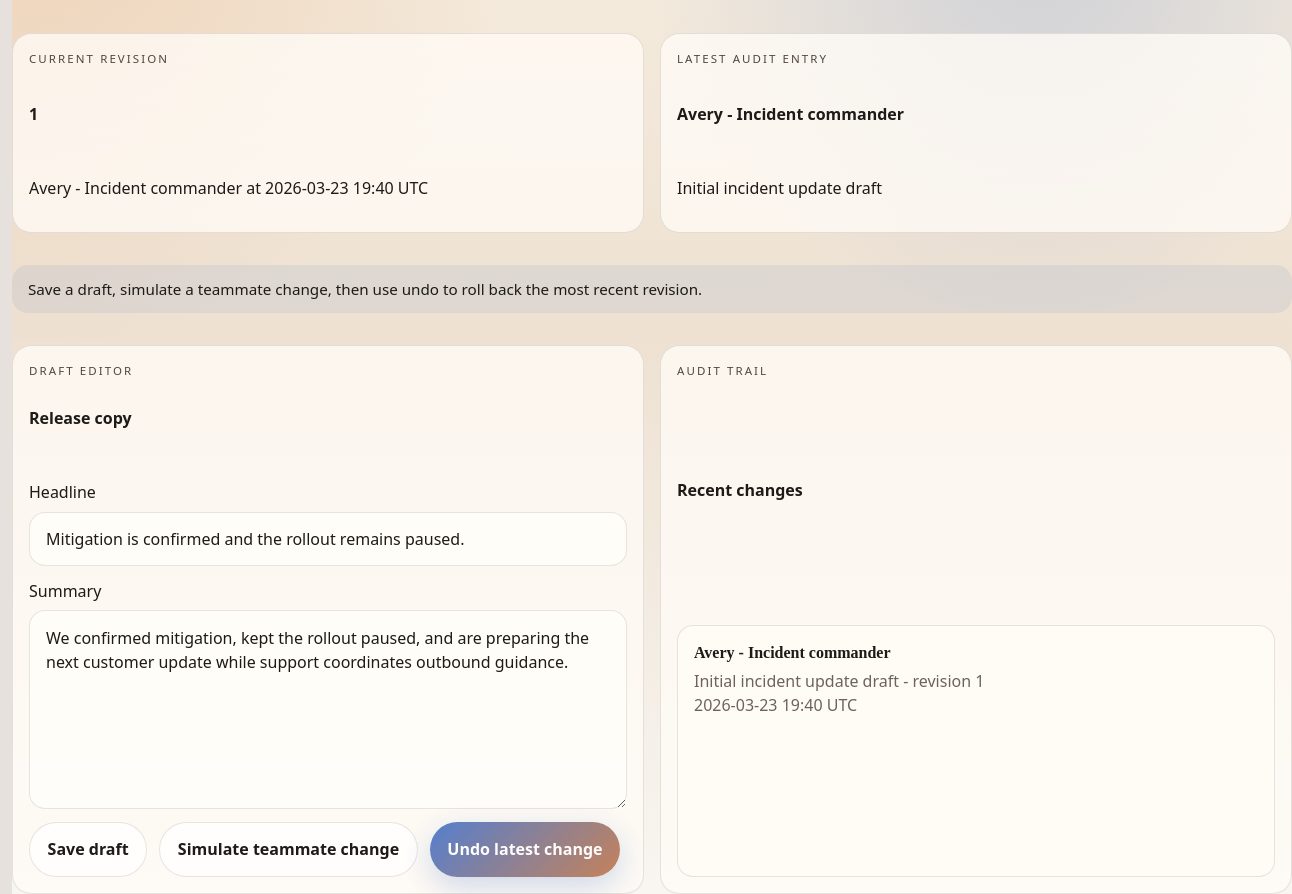
Test case: release audit history and undo › captures change attribution when a teammate updates the shared release copy
(page scrolled)
Click the button "Simulate teammate change" at point(288, 849), box [159,822,418,877]
Wait 240 ms
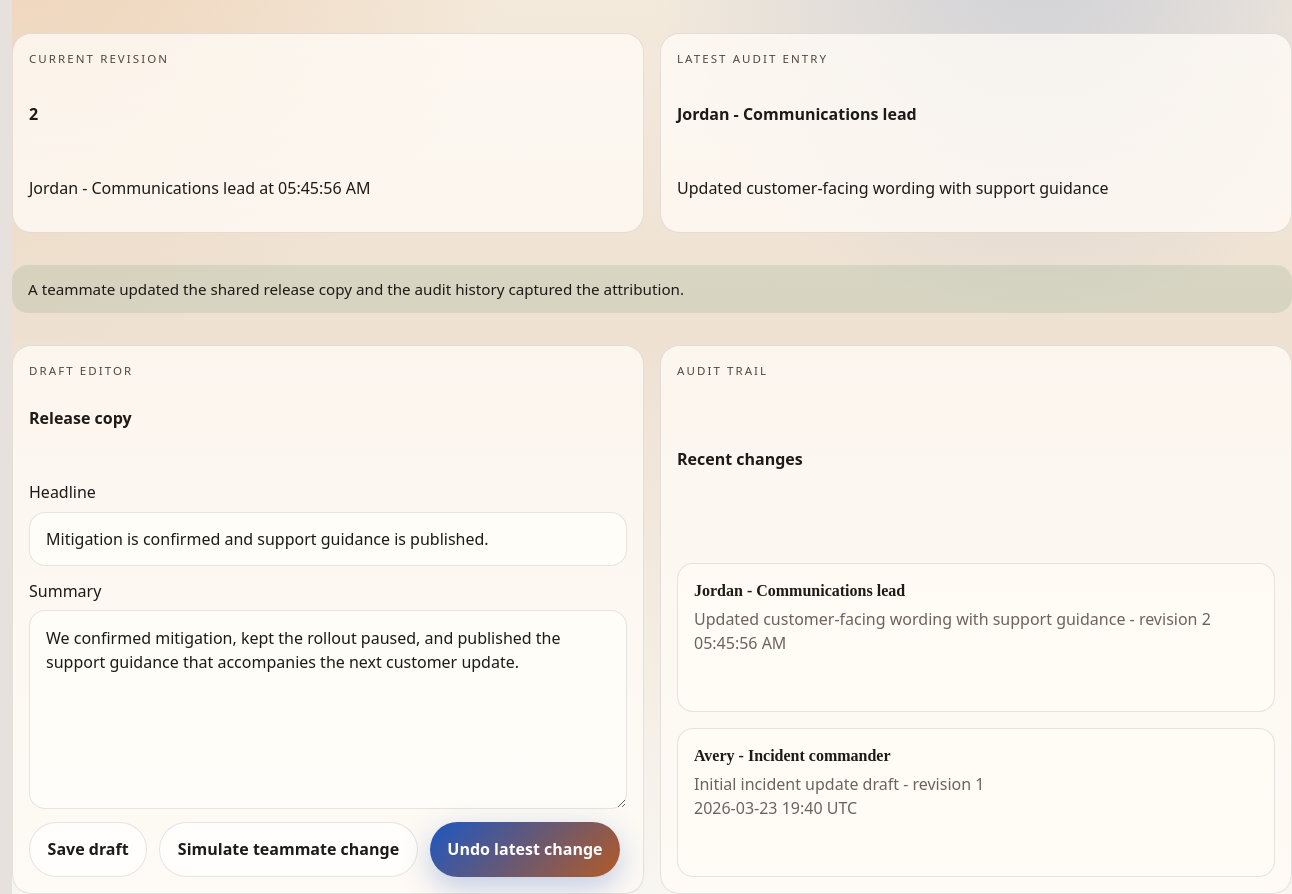
Check: the text "Updated customer-facing wording with support guidance - revision 2" is shown, box [694,607,1258,631]
